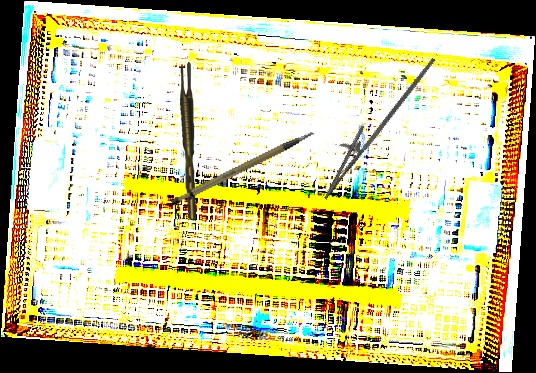Needle Holder: (311, 40, 437, 211)
Scalpel Handle: (164, 130, 323, 209)
Tissue Forceps: (180, 62, 196, 220)
